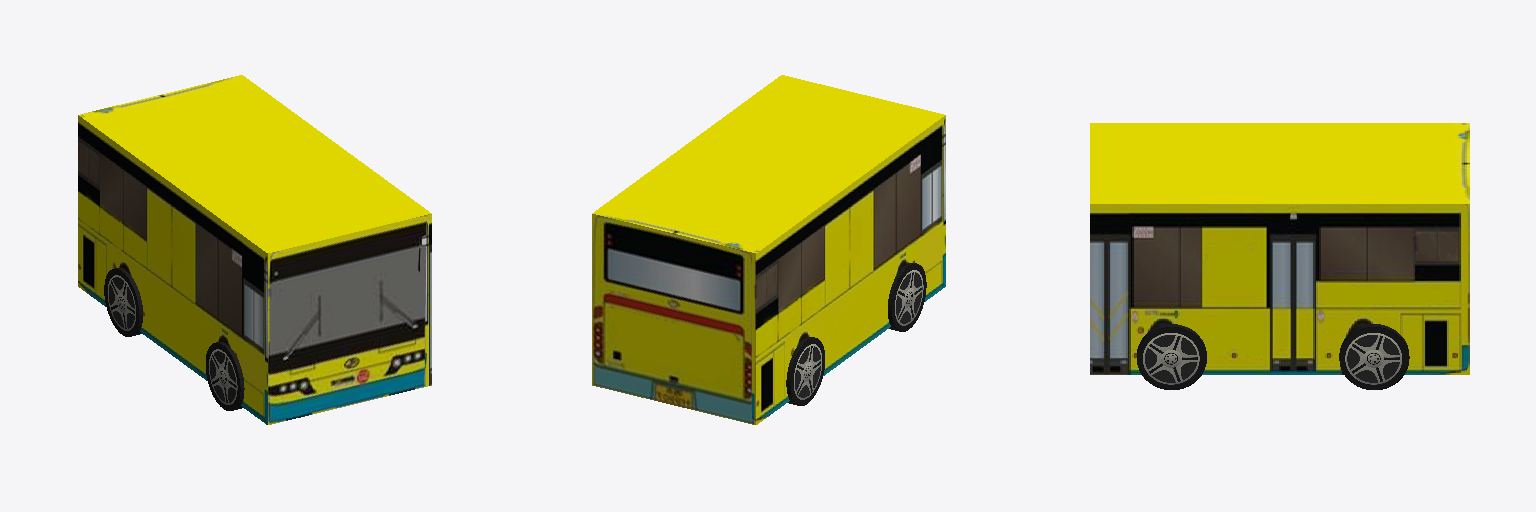
3 views of the same model, side by side, from view 1: azimuth 30°, elevation 25°; view 2: azimuth 150°, elevation 25°; view 3: azimuth 270°, elevation 25° (orthographic).
Visible parts, largest first — view 1: body, 4, 2; view 2: body, 2, 4; view 3: body, 3, 1.
Part boxes in pixels (x1,y1,x2,y2): body: (78,75,431,424); 4: (104,268,142,336); 2: (206,342,244,410); body: (592,75,945,424); 2: (888,263,926,331); 4: (786,337,824,405); body: (1090,123,1469,374); 3: (1339,324,1409,389); 1: (1137,324,1206,389).
Bounding box in the file's own units: 212 × 214 × 400.
2 materials, 2 textured.